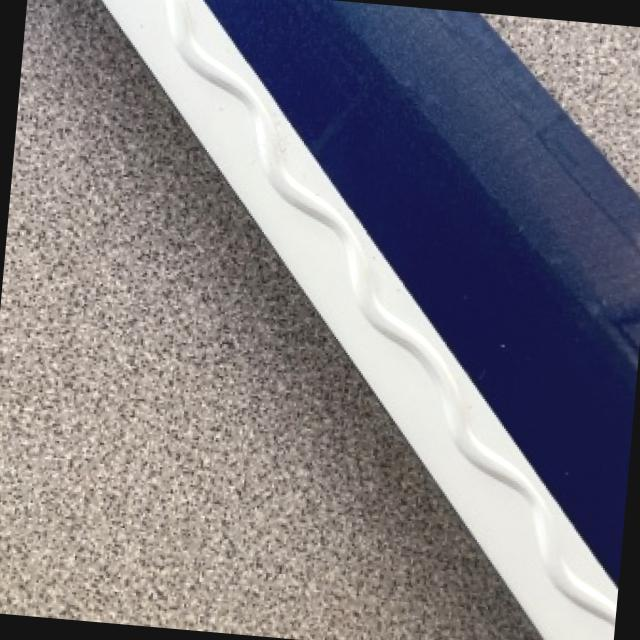healthy: (0, 0, 539, 640)
